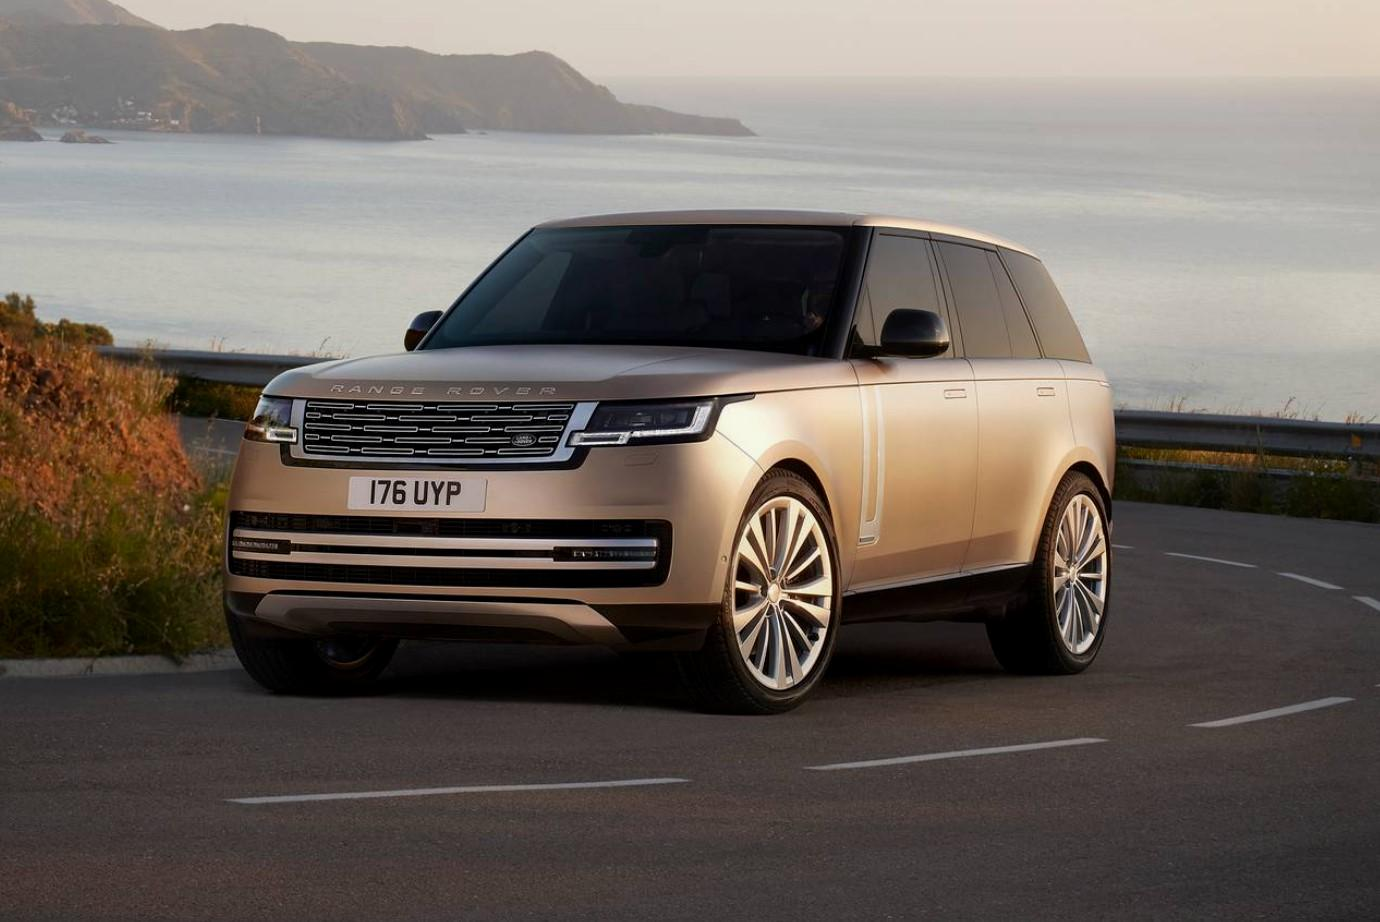range rover: (322, 374, 570, 407)
